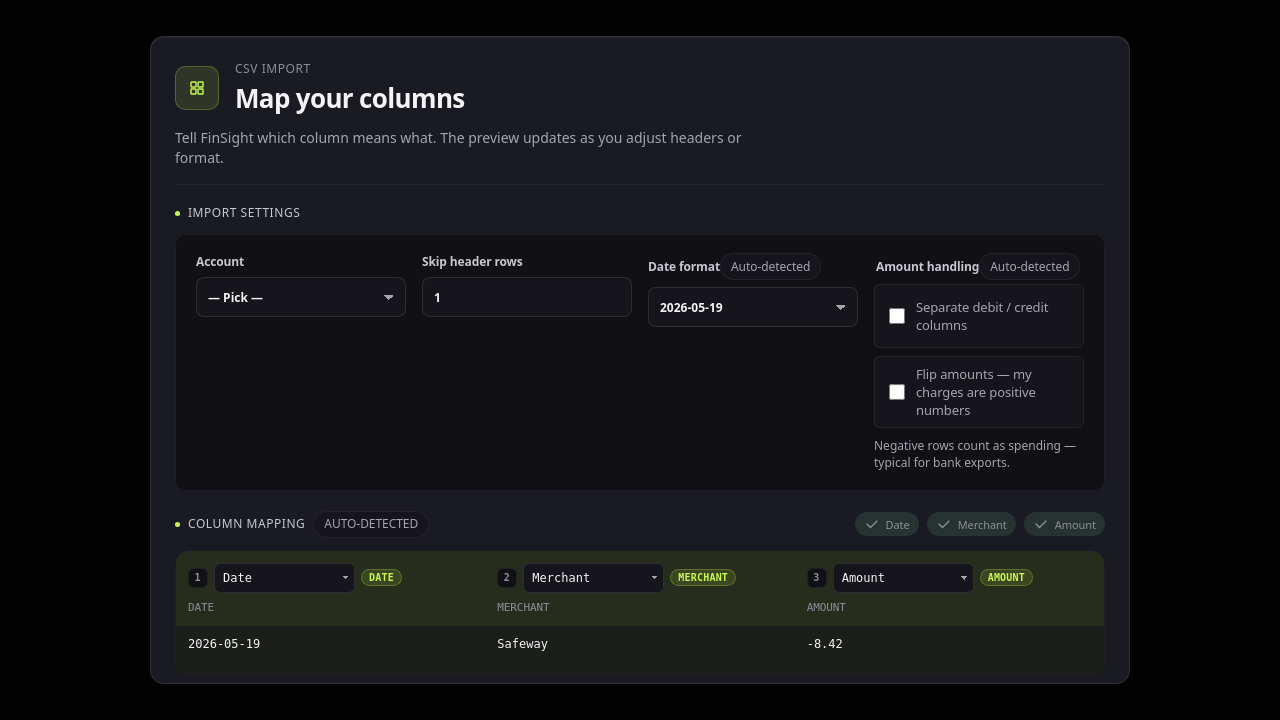
ImportMappingDialog › Flip amounts negates Amount cells live in the preview
Expected: the text "Safeway" is shown, [485,627,795,675]
Expected: the text "-8.42" is shown, [795,627,1104,675]
Step 1. Click the checkbox labelled "Flip amounts — my charges are positive numbers" → (897, 392), box [889,372,905,412]
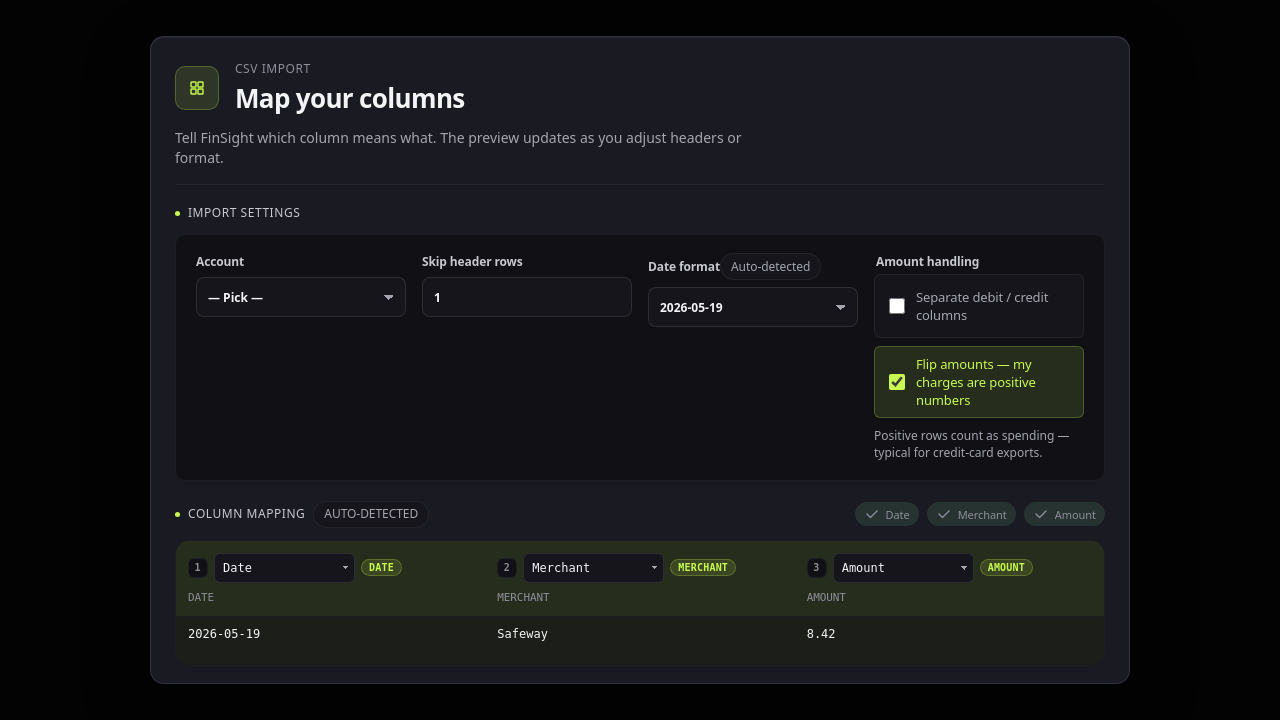
Expected: the text "8.42" is shown, [795,617,1104,665]
Expected: the text "-8.42" is gone
Step 2. Click the checkbox labelled "Flip amounts — my charges are positive numbers" → (897, 382), box [889,362,905,402]
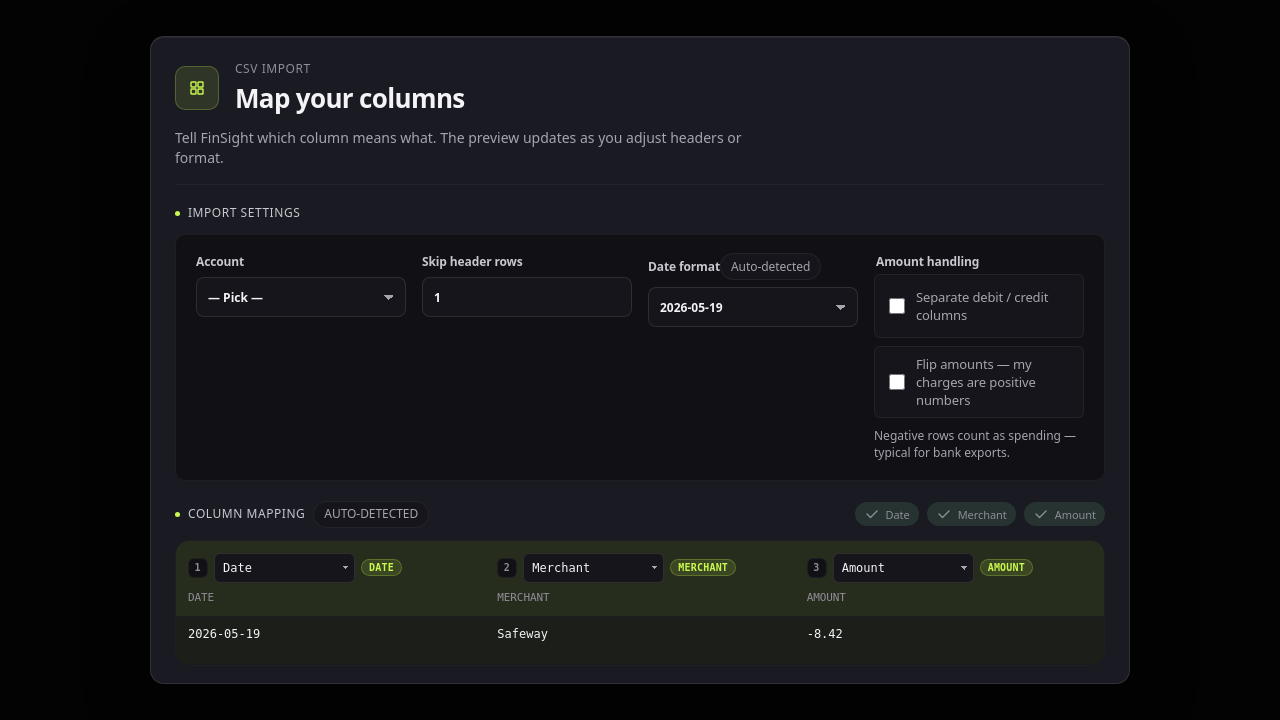
Expected: the text "-8.42" is shown, [795,617,1104,665]
